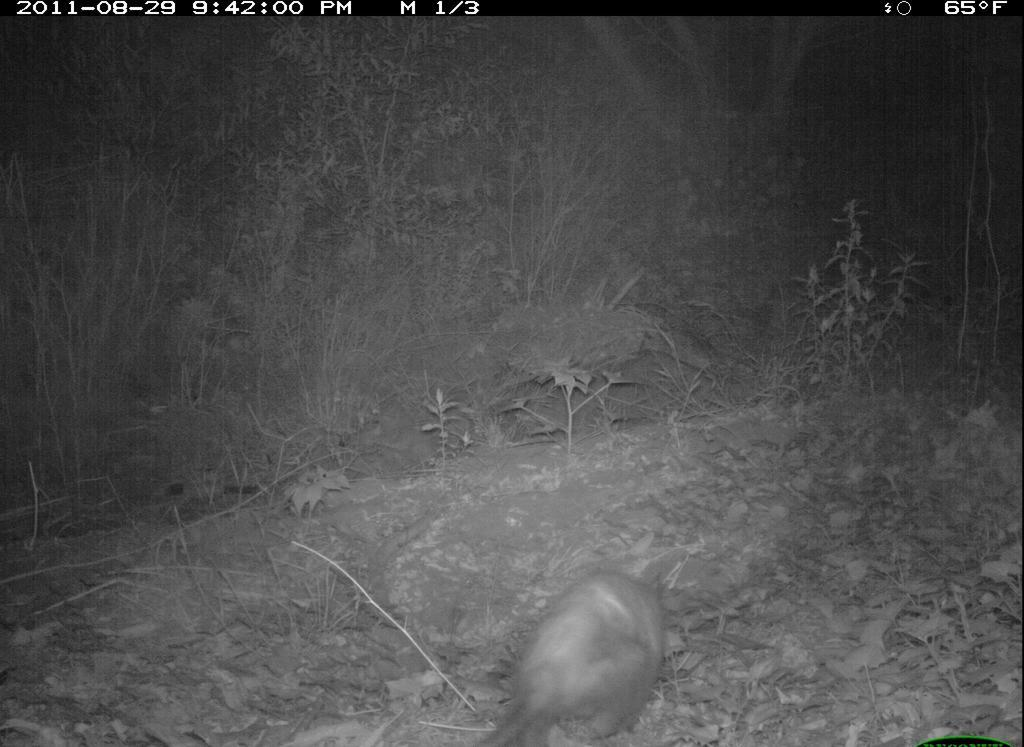opossum: (452, 539, 681, 734)
